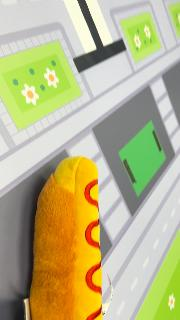hotdog: (28, 155, 103, 319)
